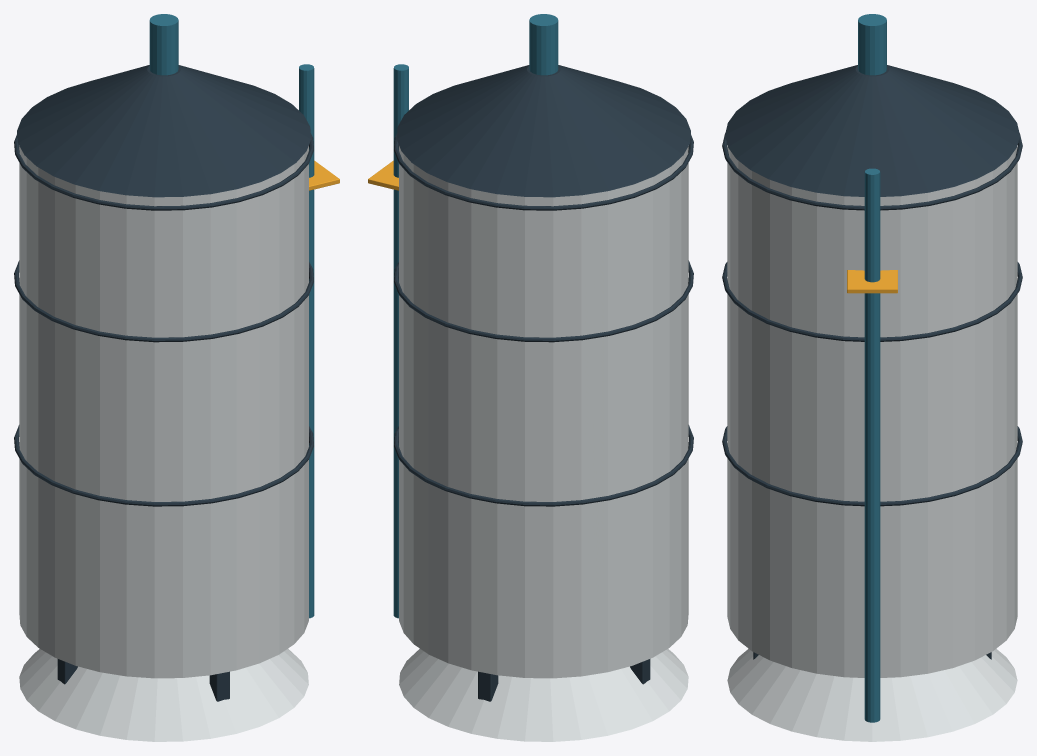
File: silo-medium.glb
3 renders of one model, left to right at view 1: azimuth 30°, elevation 25°; view 2: azimuth 150°, elevation 25°; view 3: azimuth 270°, elevation 25°, orthographic.
Visible parts, largest first — view 1: silo_body, silo_roof, silo_hopper, silo_pipe, 环体.021, 环体.022, 环体.023, silo_vent; view 2: silo_body, silo_roof, silo_hopper, silo_pipe, 环体.021, 环体.022, 环体.023, silo_vent; view 3: silo_body, silo_roof, silo_hopper, silo_pipe, 环体.022, 环体.021, 环体.023, silo_vent, silo_platform.
Boxes of the visible parts, bbox=[...] form: silo_body: bbox=[19, 146, 308, 678]; silo_roof: bbox=[17, 65, 311, 197]; silo_hopper: bbox=[19, 649, 308, 741]; silo_pipe: bbox=[299, 64, 314, 618]; 环体.021: bbox=[14, 425, 313, 506]; 环体.022: bbox=[14, 260, 313, 342]; 环体.023: bbox=[14, 134, 313, 210]; silo_vent: bbox=[149, 14, 178, 75]; silo_body: bbox=[399, 146, 688, 678]; silo_roof: bbox=[396, 65, 690, 197]; silo_hopper: bbox=[399, 649, 688, 741]; silo_pipe: bbox=[393, 64, 408, 618]; 环体.021: bbox=[394, 425, 693, 506]; 环体.022: bbox=[394, 260, 693, 342]; 环体.023: bbox=[394, 134, 693, 210]; silo_vent: bbox=[529, 14, 558, 75]; silo_body: bbox=[727, 146, 1017, 677]; silo_roof: bbox=[725, 65, 1019, 196]; silo_hopper: bbox=[727, 648, 1017, 741]; silo_pipe: bbox=[864, 168, 880, 722]; 环体.022: bbox=[722, 262, 1022, 341]; 环体.021: bbox=[722, 426, 1022, 506]; 环体.023: bbox=[722, 133, 1022, 210]; silo_vent: bbox=[858, 14, 886, 75]; silo_platform: bbox=[847, 270, 897, 293].
Size of the model in its own units: 14.02 by 30.55 by 12.44.
